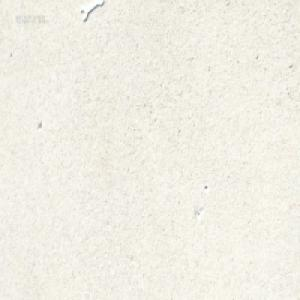Wrench: (80, 0, 104, 22)
